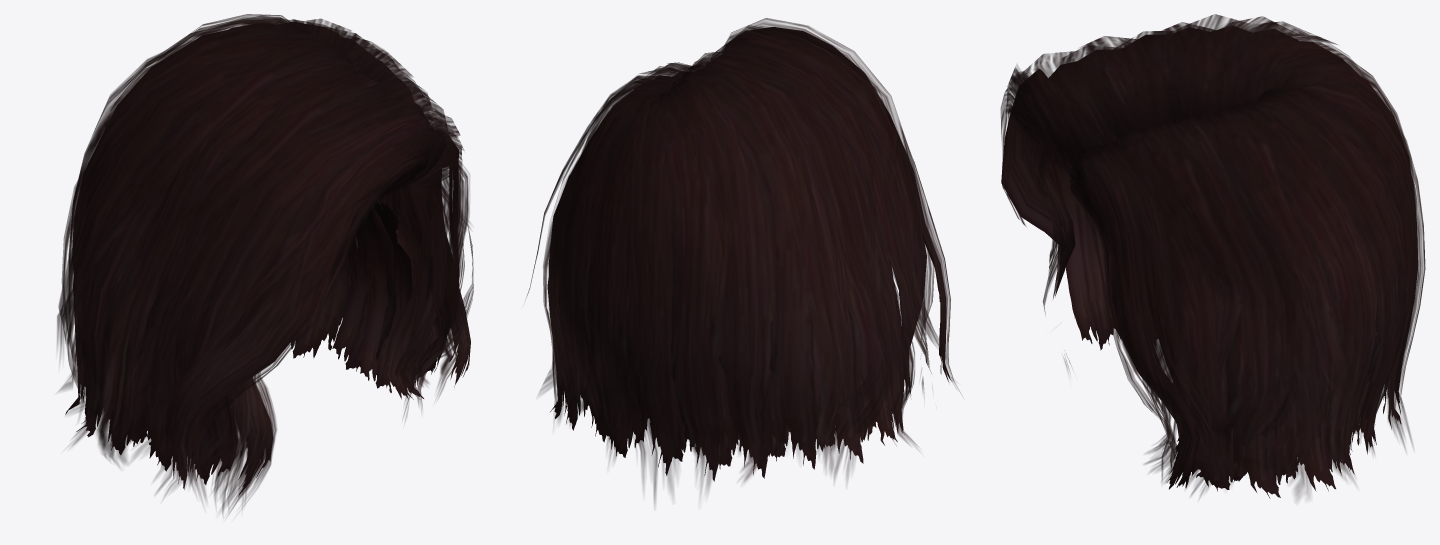
File: low_poly_combed_long_hair_textured.glb
3 views of the same model, side by side, from view 1: azimuth 30°, elevation 25°; view 2: azimuth 150°, elevation 25°; view 3: azimuth 270°, elevation 25° (orthographic). The views are drawn at different scales.
Parts seen in each view (by area): view 1: Object_6, Object_4; view 2: Object_6, Object_4; view 3: Object_6, Object_4.
Part boxes in pixels (x1,y1,x2,y2): Object_6: [57, 14, 473, 515]; Object_4: [65, 22, 470, 496]; Object_6: [526, 18, 961, 505]; Object_4: [547, 27, 951, 481]; Object_6: [1000, 14, 1425, 500]; Object_4: [1001, 26, 1417, 498].
Size of the model in its own units: 0.3224 by 0.295 by 0.2618.
Materials: 2 (2 with a texture image).
